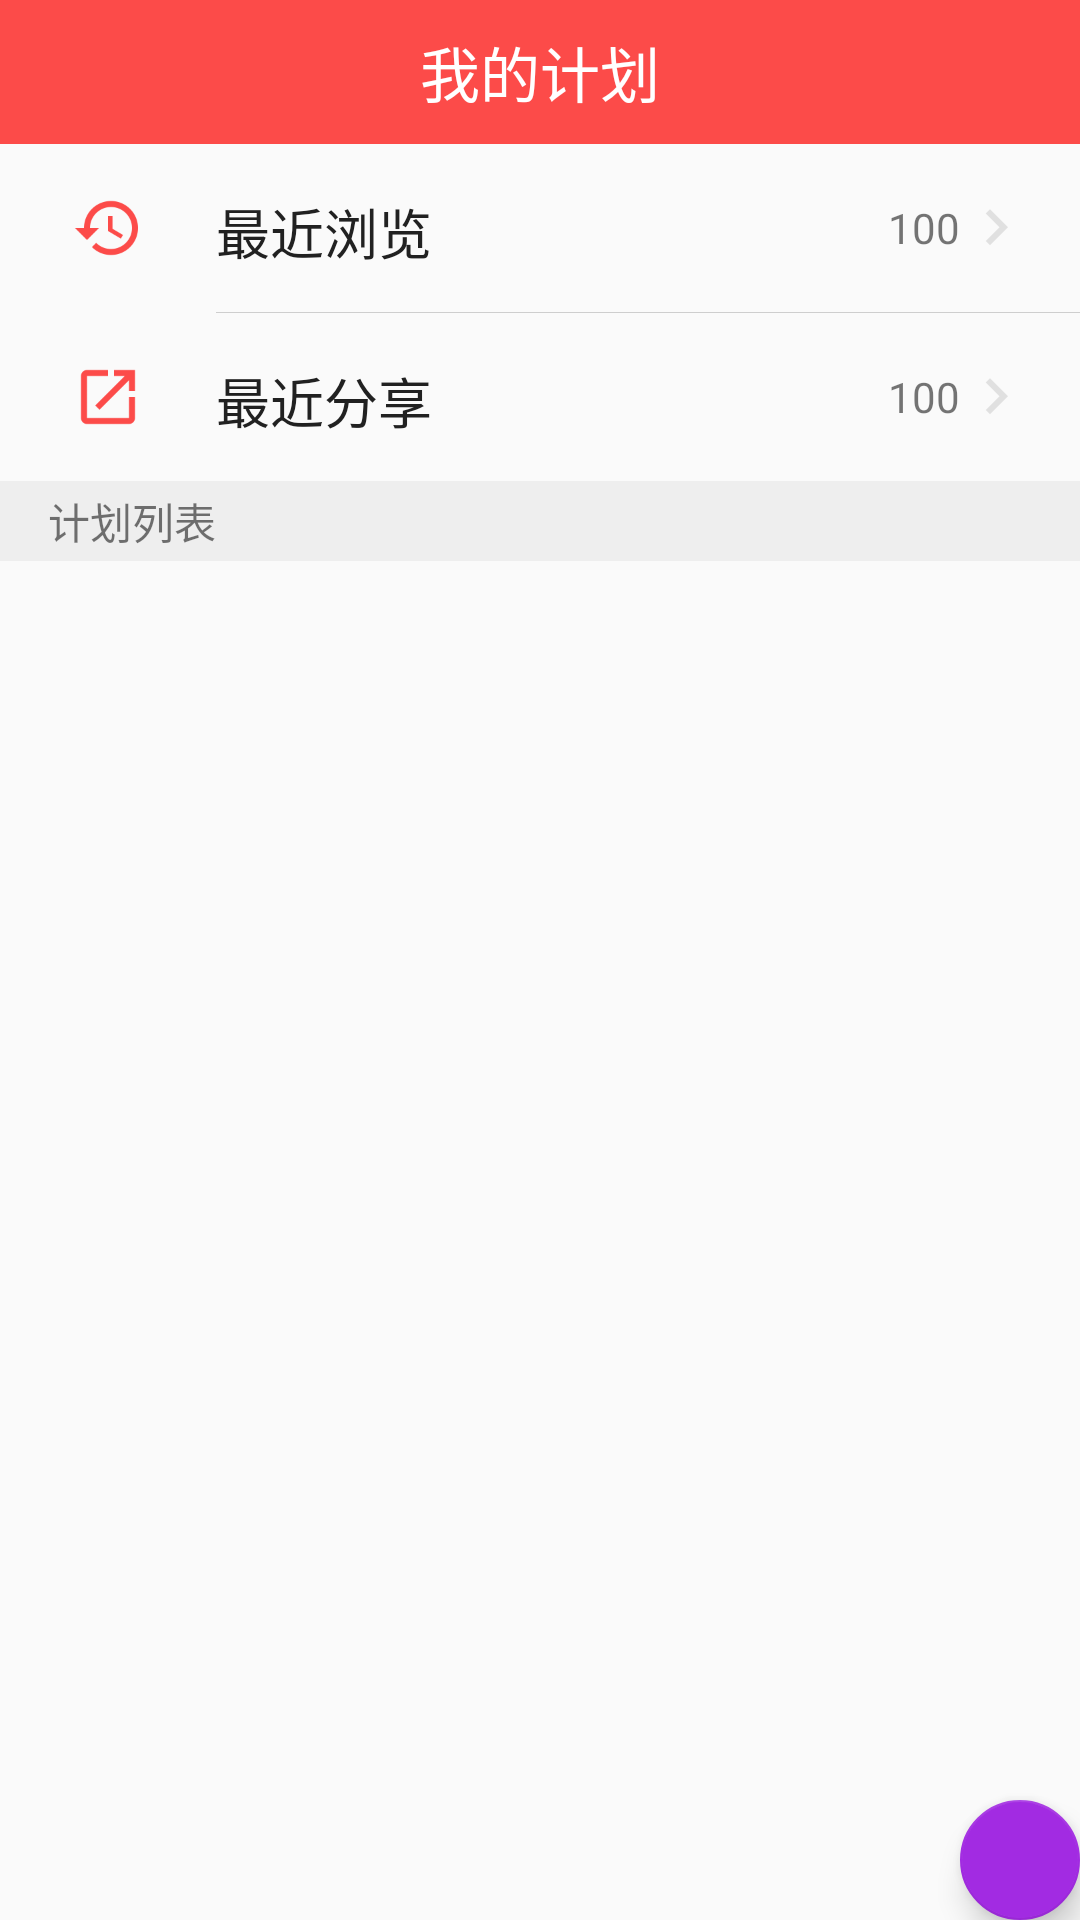

Screen size 1080px x 1920px. Icon name, then its center in pixels as point (x, y):
browser history: point (106, 228)
